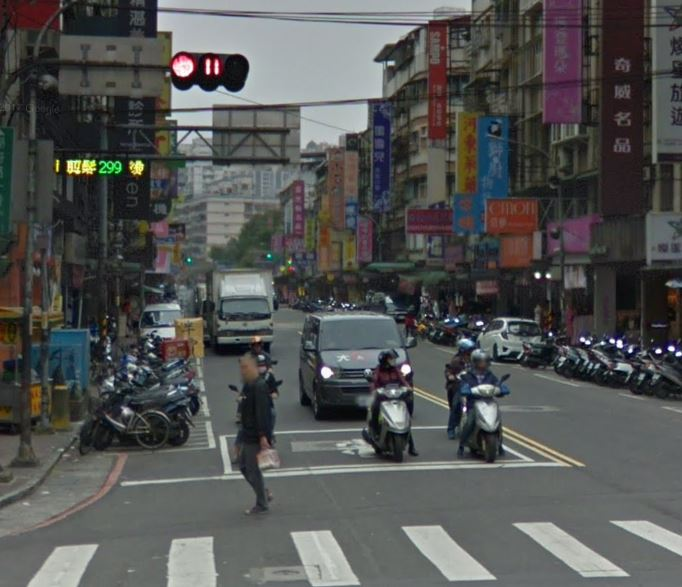Traffic_light_red: (168, 50, 250, 93)
motorcycle: (363, 369, 415, 463), (459, 372, 512, 461)
